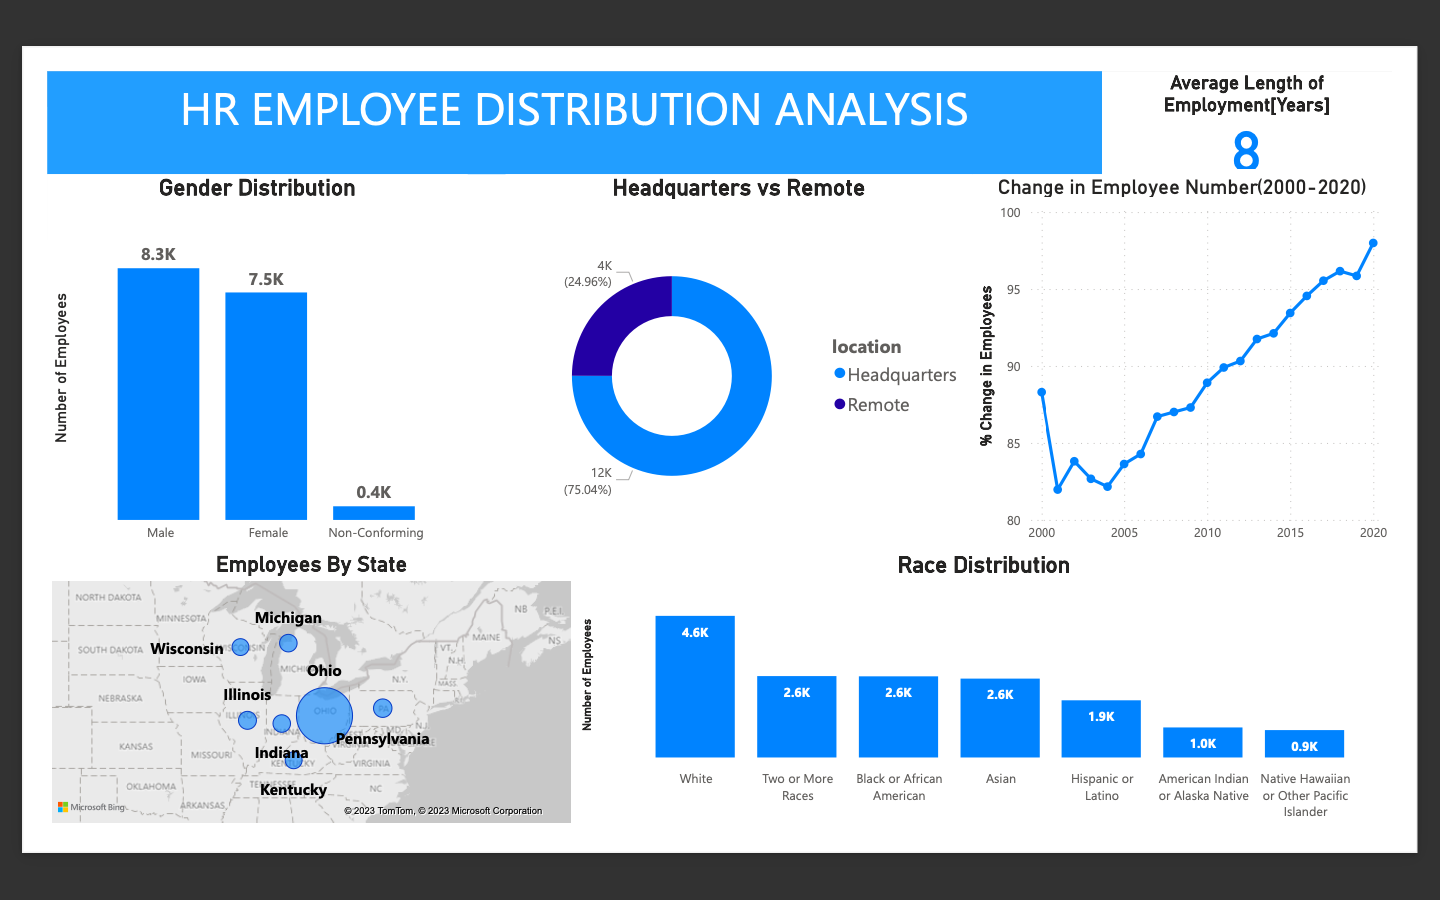

This screenshot's page, from the dashboard's own definition file:
{"tool":"powerbi","page":{"name":"Page 1","canvas":[1280,720],"ordinal":0},"visuals":[{"type":"textbox","box":[0,0,1004.4,97.8],"z":0},{"type":"card","title":"Average Length of Employment[Years]","fields":{"Values":["Sum(Avg_length_emp.avg_length_employment)"]},"box":[1004.4,0,275.6,97.8],"z":1},{"type":"columnChart","title":"Gender Distribution","fields":{"Category":["gender.gender"],"Y":["Sum(gender.count)"]},"box":[0,97.8,400,359.1],"z":2},{"type":"donutChart","title":"Headquarters vs Remote","fields":{"Y":["Sum(Location.count)"],"Category":["Location.location"]},"box":[435.6,97.8,444.4,359.1],"z":3},{"type":"lineChart","title":"Change in Employee Number(2000-2020)","fields":{"Category":["Emp_change.year"],"Y":["Sum(Emp_change.net_change_percent)"]},"box":[880,97.8,400,359.1],"z":4},{"type":"map","title":"Employees By State","fields":{"Size":["Sum(State.count)"],"Category":["State.location_state"]},"box":[0,456.9,503.1,263.1],"z":5},{"type":"clusteredColumnChart","title":" Race Distribution","fields":{"Y":["Sum(Race.count)"],"Category":["Race.race"]},"box":[503.1,456.9,776.9,263.1],"z":6}]}

Visuals, with their boxes on the page's 1280x720 design canvas (x1, y1, x2, y2). These are canvas units, not pixel positions in the 1440x900 screenshot, which may show the page scaled, cropped or inside an application window:
textbox: select_region(0, 0, 1004, 98)
"Average Length of Employment[Years]" card: select_region(1004, 0, 1280, 98)
"Gender Distribution" columnChart: select_region(0, 98, 400, 457)
"Headquarters vs Remote" donutChart: select_region(436, 98, 880, 457)
"Change in Employee Number(2000-2020)" lineChart: select_region(880, 98, 1280, 457)
"Employees By State" map: select_region(0, 457, 503, 720)
" Race Distribution" clusteredColumnChart: select_region(503, 457, 1280, 720)
